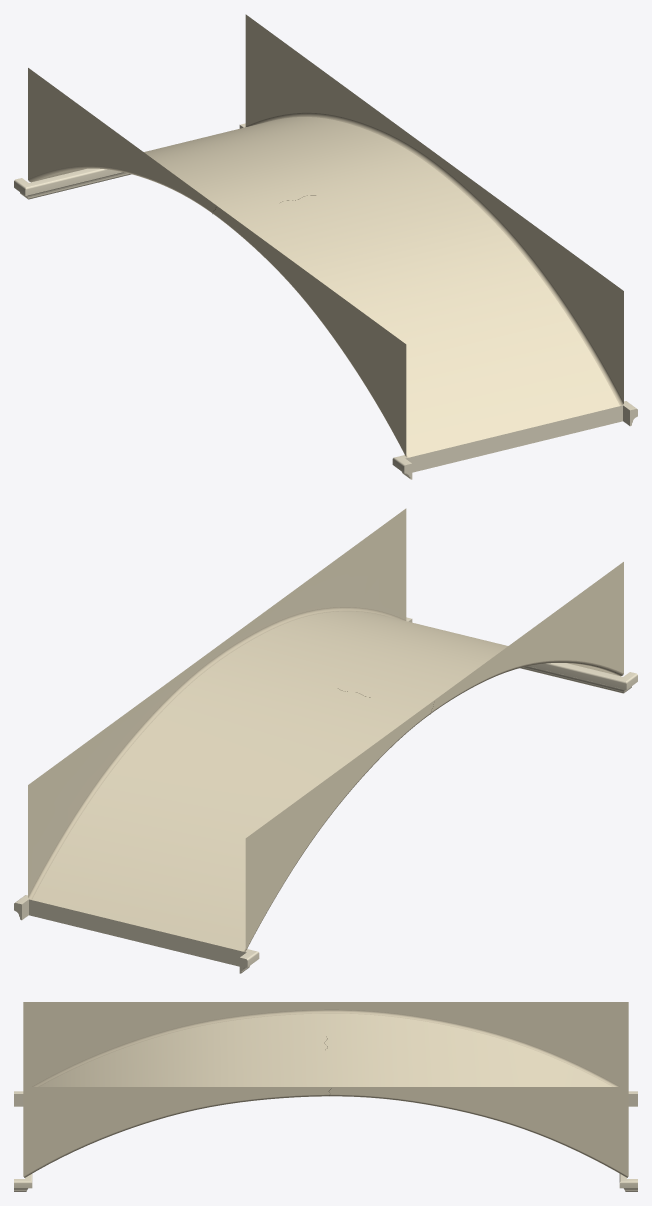
The model's file is arch3.glb.
3 views of the same model, one above another, from view 1: azimuth 30°, elevation 25°; view 2: azimuth 150°, elevation 25°; view 3: azimuth 270°, elevation 25° (orthographic). The views are drawn at different scales.
Visible parts, largest first — view 1: bogen; view 2: bogen; view 3: bogen.
Boxes of the visible parts, x1=… form: bogen: x1=14, y1=14, x2=637, y2=479; bogen: x1=14, y1=508, x2=637, y2=973; bogen: x1=14, y1=1002, x2=637, y2=1191.
Bounding box in the file's own units: 1.08 × 0.575 × 3.11.
